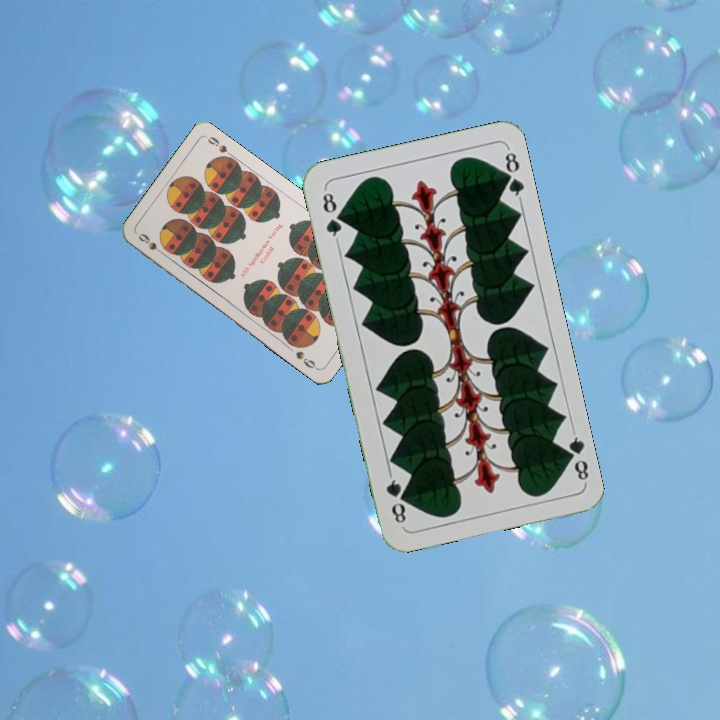G8: (558, 427, 592, 486), (318, 185, 345, 244)
S9: (134, 229, 168, 259)
